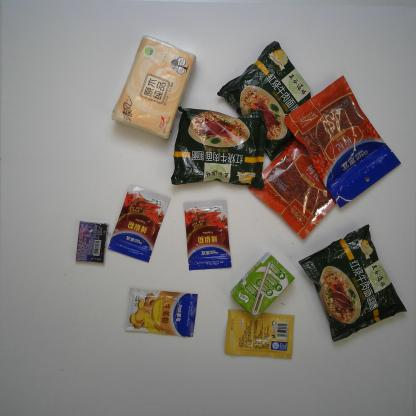Dried Fruit: (282, 74, 404, 211), (246, 122, 354, 240)
Gum: (76, 221, 108, 264)
Instant Noodles: (297, 222, 407, 343), (216, 39, 314, 163), (169, 105, 268, 190)
Milk: (229, 251, 295, 320)
Seasoner: (106, 183, 172, 263), (224, 308, 296, 360), (182, 198, 232, 272), (125, 287, 198, 337)
Tissue: (110, 34, 198, 140)
